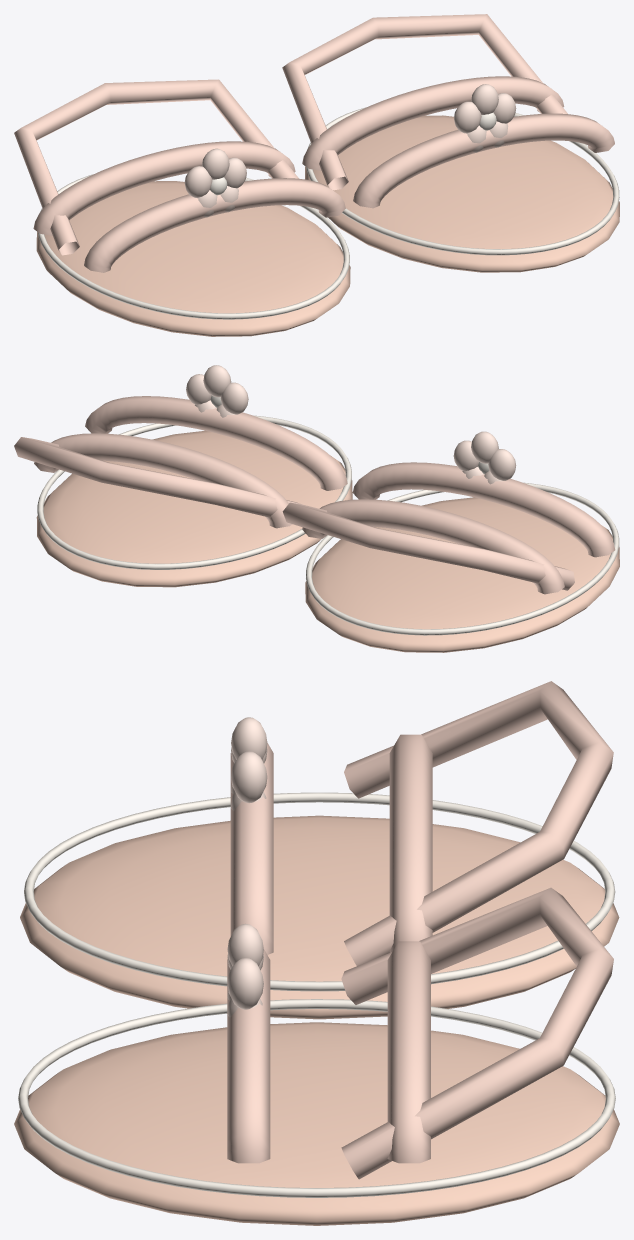
The model's file is sandals_summer_bear_tailored.glb.
The picture shows the model from 3 angles, top to bottom: view 1: azimuth 30°, elevation 25°; view 2: azimuth 150°, elevation 25°; view 3: azimuth 270°, elevation 25°; orthographic projection. The views are drawn at different scales.
Parts seen in each view (by area): view 1: Calzado · Right · Suela.009, Calzado · Left · Suela.009, Calzado · Left · Talón.001, Calzado · Right · Talón.001, Calzado · Right · Correa redondeada.002, Calzado · Left · Correa redondeada.002, Calzado · Left · Correa redondeada.003, Calzado · Right · Correa redondeada.003, Calzado · Right · Ribete de suela.009, Calzado · Left · Ribete de suela.009, Calzado · Left · Pétalo.009, Calzado · Right · Pétalo.007 (+4 smaller); view 2: Calzado · Right · Suela.009, Calzado · Left · Suela.009, Calzado · Left · Correa redondeada.002, Calzado · Right · Correa redondeada.002, Calzado · Right · Talón.001, Calzado · Right · Correa redondeada.003, Calzado · Left · Correa redondeada.003, Calzado · Left · Talón.001, Calzado · Right · Ribete de suela.009, Calzado · Left · Ribete de suela.009, Calzado · Left · Pétalo.009, Calzado · Right · Pétalo.007 (+4 smaller); view 3: Calzado · Left · Suela.009, Calzado · Right · Suela.009, Calzado · Left · Talón.001, Calzado · Right · Talón.001, Calzado · Left · Ribete de suela.009, Calzado · Right · Ribete de suela.009, Calzado · Left · Correa redondeada.003, Calzado · Right · Correa redondeada.003, Calzado · Left · Correa redondeada.002, Calzado · Right · Correa redondeada.002, Calzado · Left · Pétalo.005, Calzado · Right · Pétalo.005 (+2 smaller).
Boxes of the visible parts, box(x1,y1,x2,y2) form: Calzado · Right · Suela.009: box(36, 181, 350, 336); Calzado · Left · Suela.009: box(305, 115, 619, 272); Calzado · Left · Talón.001: box(282, 14, 567, 190); Calzado · Right · Talón.001: box(14, 79, 298, 255); Calzado · Right · Correa redondeada.002: box(84, 178, 345, 272); Calzado · Left · Correa redondeada.002: box(353, 113, 614, 208); Calzado · Left · Correa redondeada.003: box(302, 76, 564, 170); Calzado · Right · Correa redondeada.003: box(33, 141, 295, 235); Calzado · Right · Ribete de suela.009: box(37, 174, 349, 319); Calzado · Left · Ribete de suela.009: box(306, 107, 619, 255); Calzado · Left · Pétalo.009: box(454, 101, 481, 133); Calzado · Right · Pétalo.007: box(184, 166, 212, 197); Calzado · Right · Suela.009: box(305, 497, 619, 652); Calzado · Left · Suela.009: box(36, 430, 352, 587); Calzado · Left · Correa redondeada.002: box(85, 396, 347, 490); Calzado · Right · Correa redondeada.002: box(352, 462, 615, 557); Calzado · Right · Talón.001: box(282, 502, 574, 590); Calzado · Right · Correa redondeada.003: box(302, 499, 564, 594); Calzado · Left · Correa redondeada.003: box(34, 433, 292, 528); Calzado · Left · Talón.001: box(14, 437, 302, 517); Calzado · Right · Ribete de suela.009: box(306, 482, 619, 635); Calzado · Left · Ribete de suela.009: box(37, 415, 351, 569); Calzado · Left · Pétalo.009: box(220, 382, 248, 414); Calzado · Right · Pétalo.007: box(488, 449, 516, 480); Calzado · Left · Suela.009: box(14, 1022, 619, 1225); Calzado · Right · Suela.009: box(20, 815, 619, 1019); Calzado · Left · Talón.001: box(341, 887, 613, 1179); Calzado · Right · Talón.001: box(344, 681, 613, 965); Calzado · Left · Ribete de suela.009: box(18, 999, 615, 1197); Calzado · Right · Ribete de suela.009: box(24, 792, 615, 991); Calzado · Left · Correa redondeada.003: box(387, 941, 430, 1163); Calzado · Right · Correa redondeada.003: box(389, 734, 432, 952); Calzado · Left · Correa redondeada.002: box(227, 949, 270, 1163); Calzado · Right · Correa redondeada.002: box(230, 743, 273, 954); Calzado · Left · Pétalo.005: box(227, 958, 263, 1009); Calzado · Right · Pétalo.005: box(231, 751, 267, 803).
Bounding box in the file's own units: 0.5753 × 0.152 × 0.3654.
